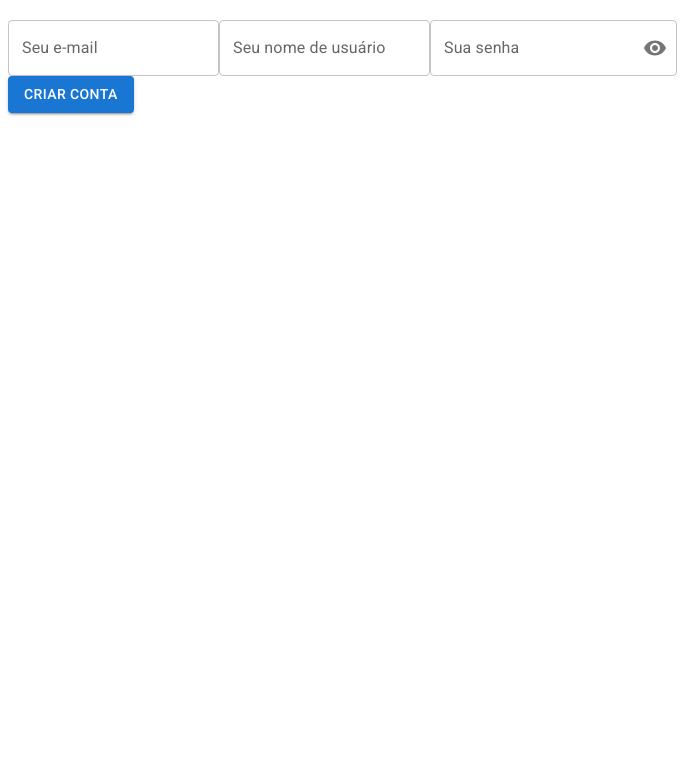
Test: Create Account - API › renders submit a form with success
The image size is (694, 773).
Type "valid-email@test.com" into the field labelled "Seu e-mail" at (114, 48), box [8,20,219,76]
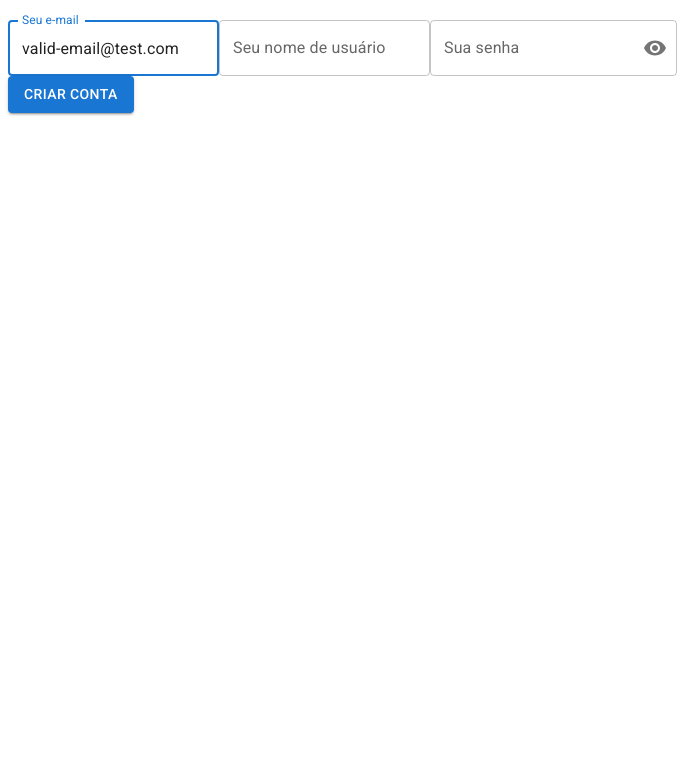
Type "username.test" into the field labelled "Seu nome de usuário" at (324, 48), box [219,20,430,76]
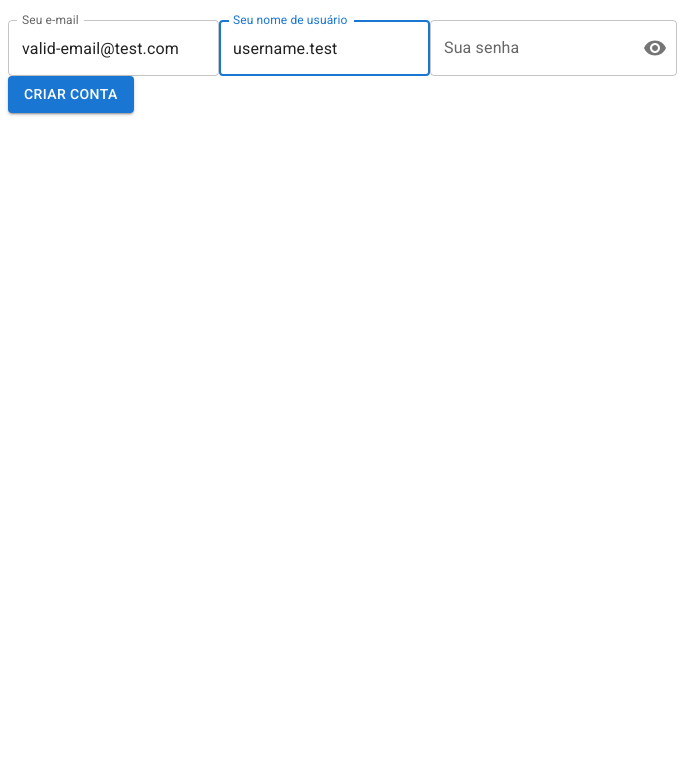
Type "@Aa12345" into the password field labelled "Sua senha" at (528, 48), box [430,20,627,76]
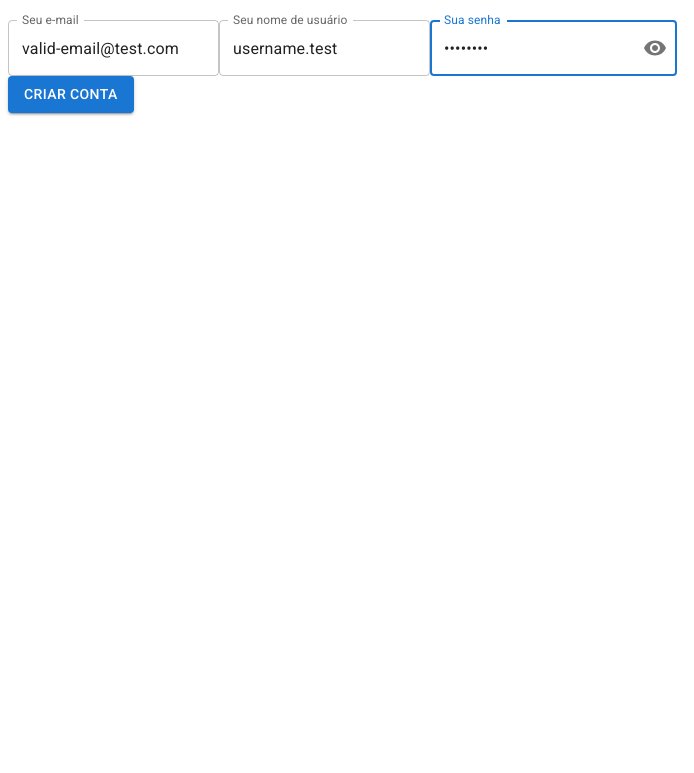
Click the button "Criar conta" at (71, 94), box [8,76,134,112]
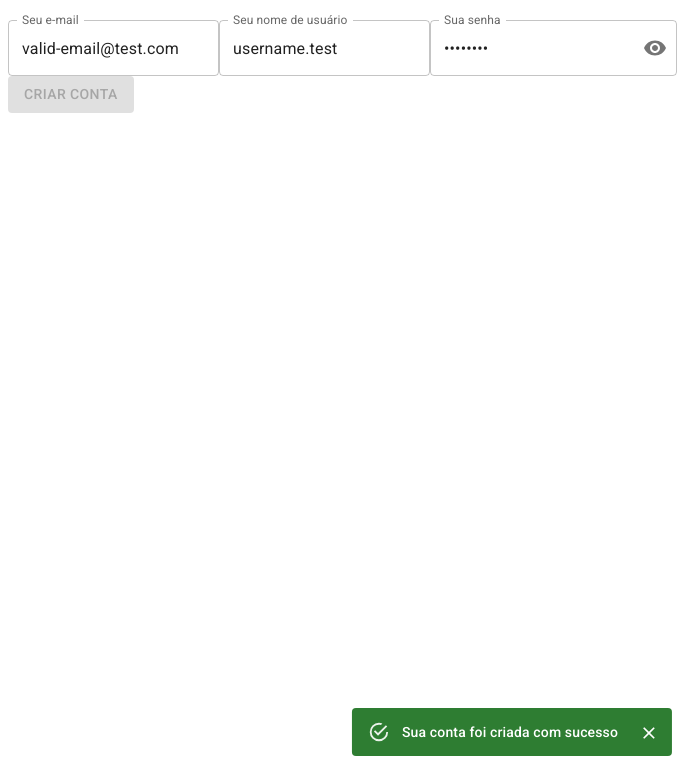
Check: the button "Criar conta" is disabled, box [8,76,134,112]
Check: the text "Sua conta foi criada com sucesso" is shown, box [402,724,618,740]
